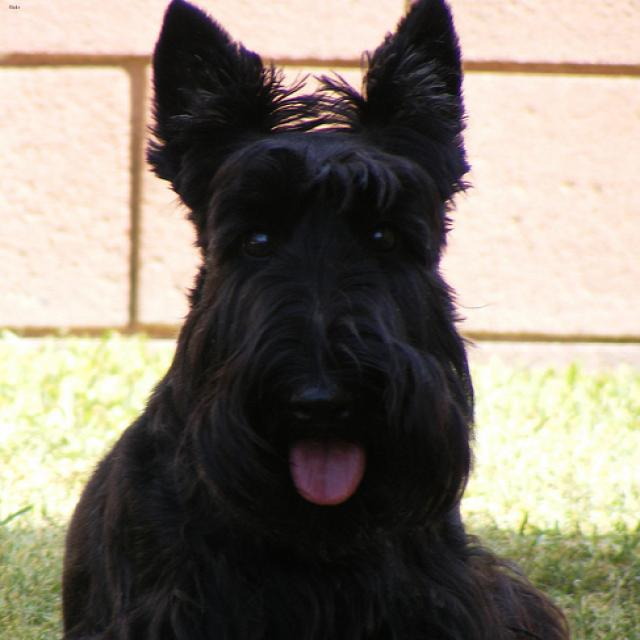dog-scottish_terrier: (51, 1, 593, 637)
